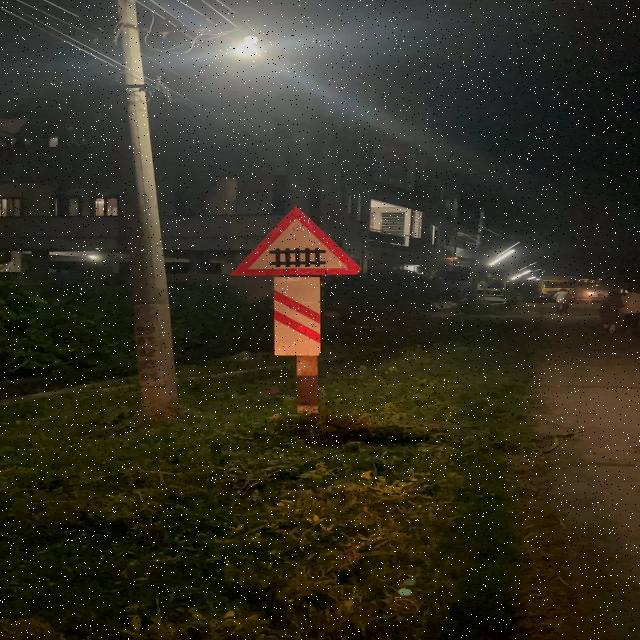200 metres: (232, 200, 380, 366)
